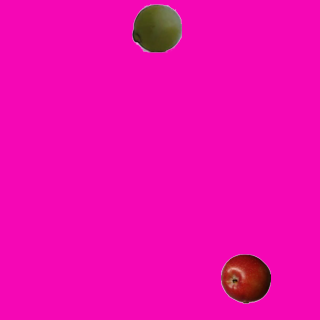Apple Braeburn: (220, 253, 270, 303)
Grape White 4: (131, 2, 181, 52)
